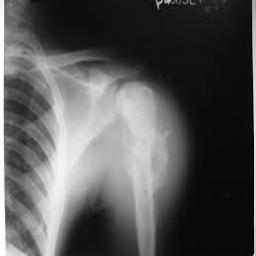cancer: (117, 83, 168, 249)
